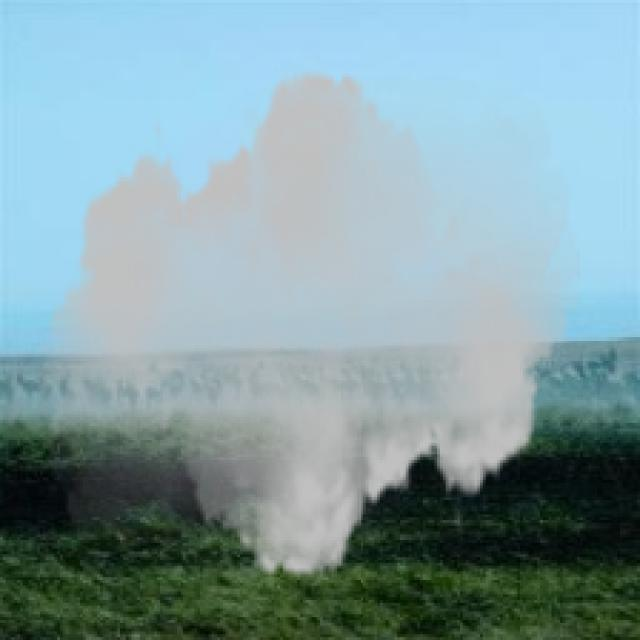smoke: (37, 49, 580, 600)
